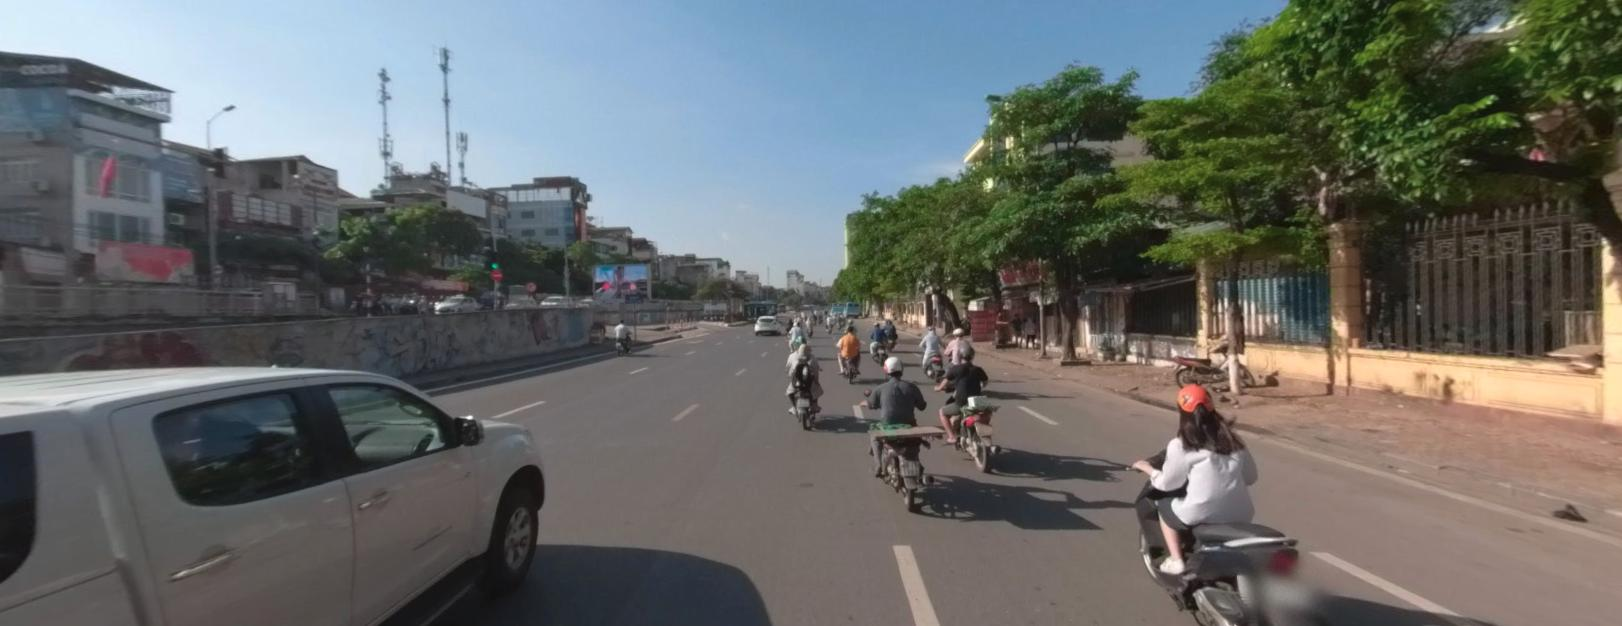Cam nguoc chieu: (491, 268, 501, 278)
Cam re: (525, 280, 536, 291), (525, 280, 537, 290)
